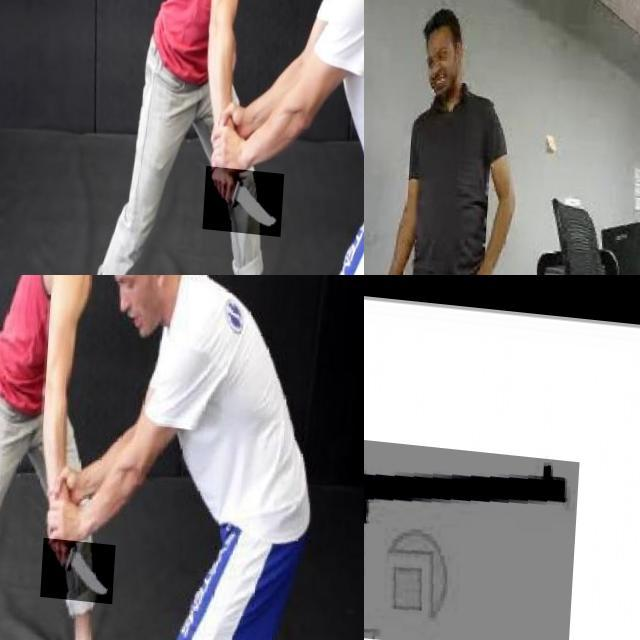-: (208, 160, 288, 229), (46, 532, 121, 596)
gun-knife-thesis - v11 Yolov5 augmented: (364, 423, 581, 640)
